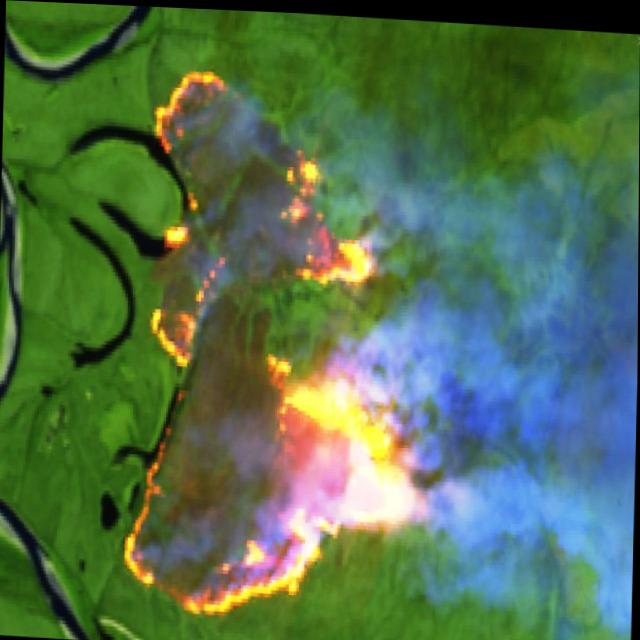fire: (115, 54, 437, 635)
